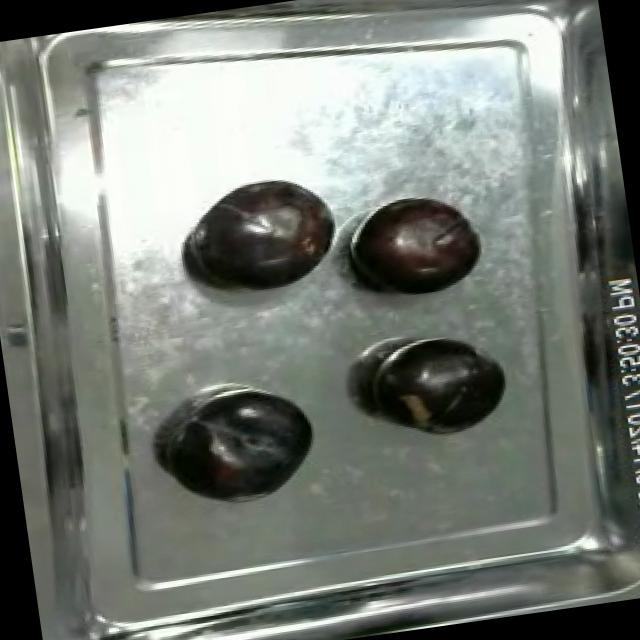Fruit: (177, 166, 350, 308), (161, 382, 327, 514), (339, 189, 491, 309), (364, 331, 515, 445)
